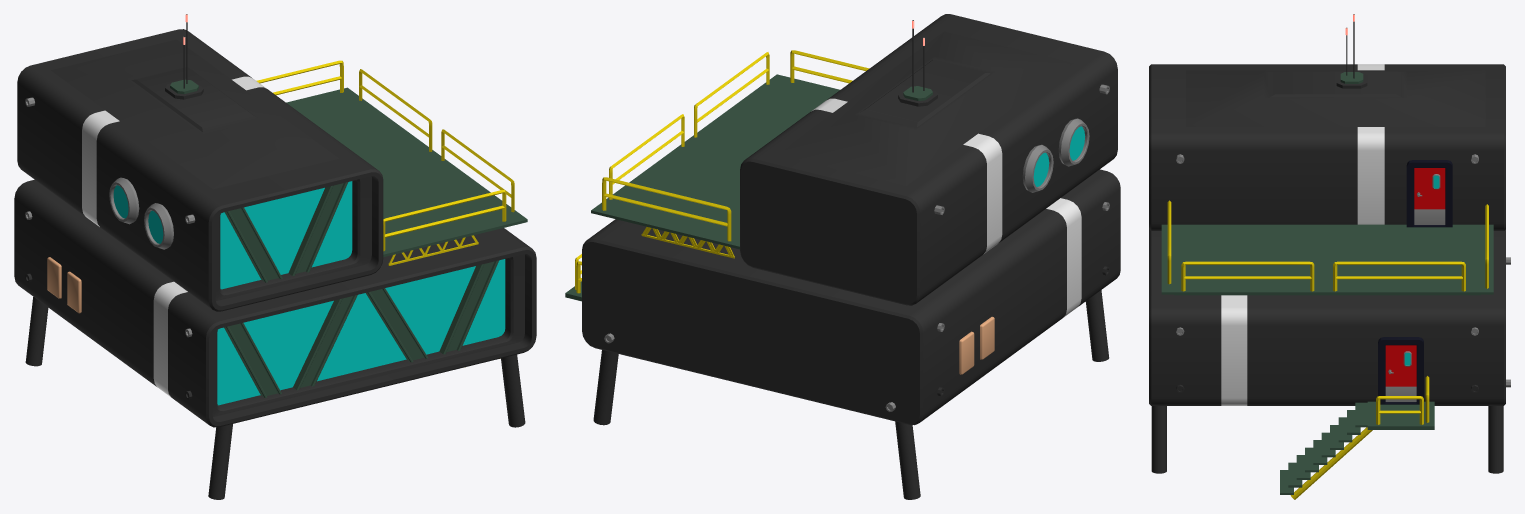
The model's file is residentHouse2Floor.fbx.
3 views of the same model, side by side, from view 1: azimuth 30°, elevation 25°; view 2: azimuth 150°, elevation 25°; view 3: azimuth 270°, elevation 25° (orthographic). The views are drawn at different scales.
Parts seen in each view (by area): view 1: Cube.130; view 2: Cube.130; view 3: Cube.130.
Boxes of the visible parts, box(x1,y1,x2,y2) form: Cube.130: box(14, 14, 536, 499); Cube.130: box(565, 14, 1120, 499); Cube.130: box(1149, 14, 1510, 499).
Bounding box in the file's own units: 1242 × 1186 × 1083.
